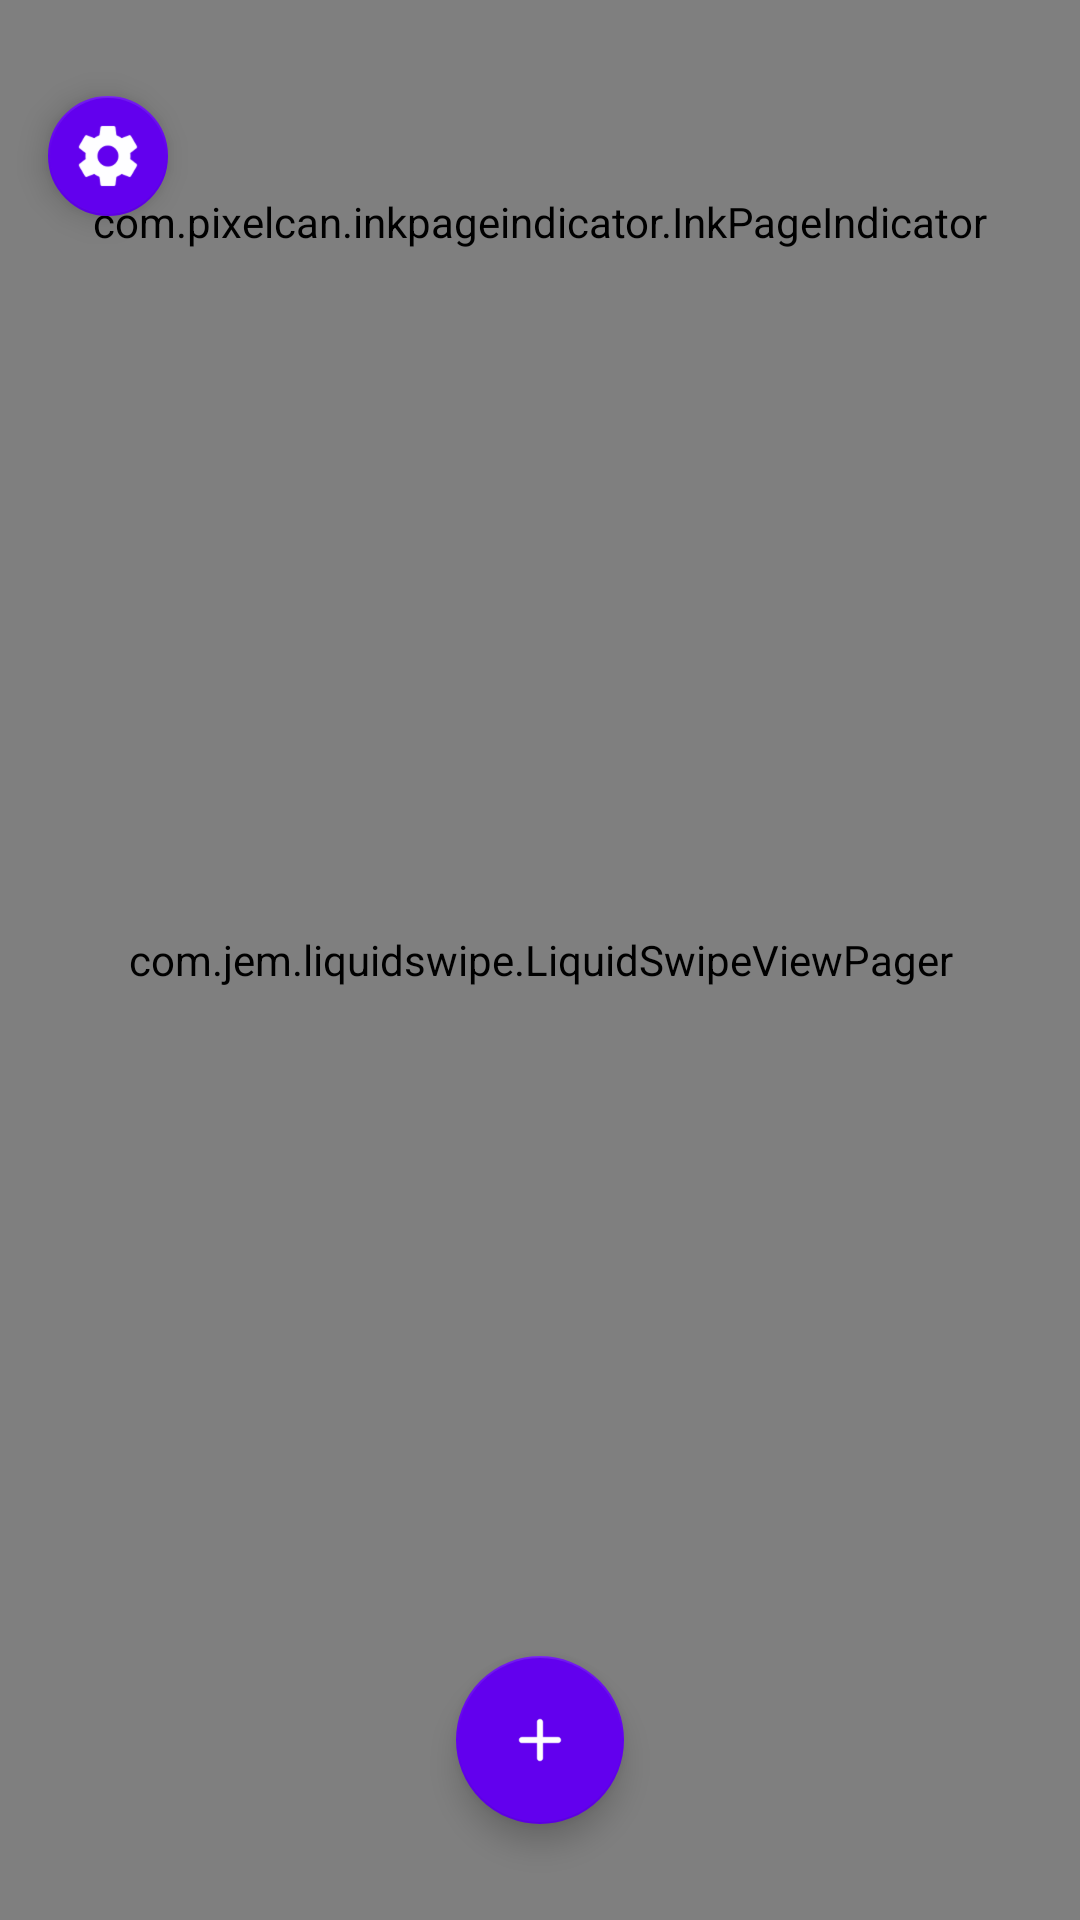

Icon bounding boxes for this 1080x1920 phone screenshot, format (x1, y1, x2, y2):
add: (456, 1656, 624, 1824)
settings: (48, 96, 168, 216)
